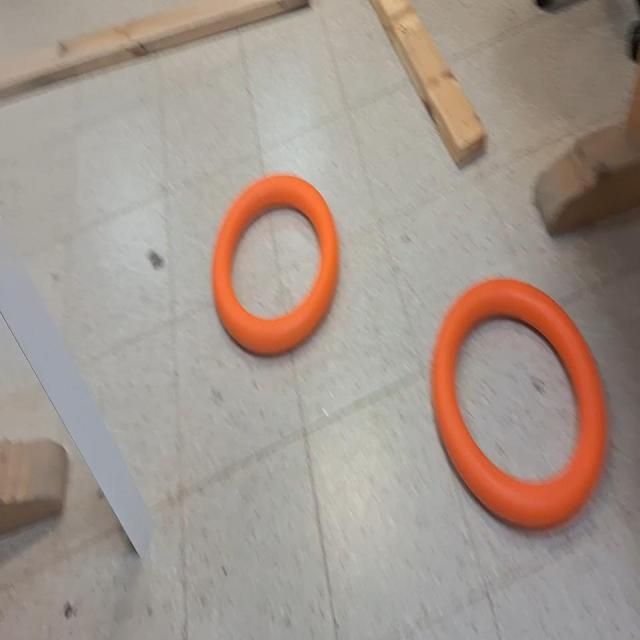note: (429, 274, 607, 538), (211, 172, 341, 360)
